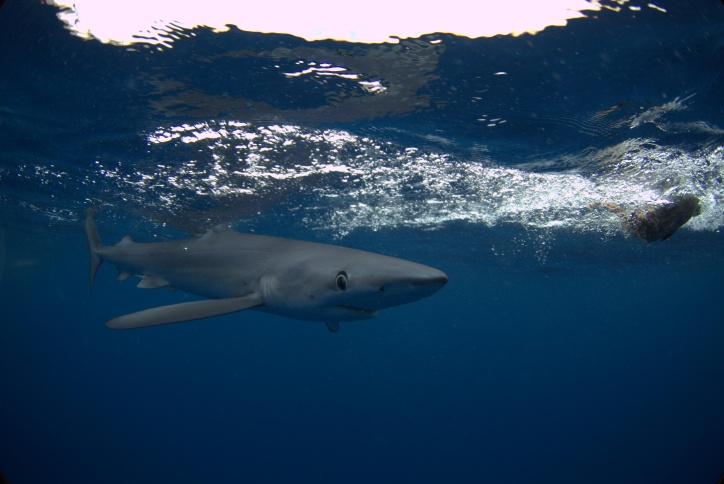Azul: (62, 170, 459, 369)
